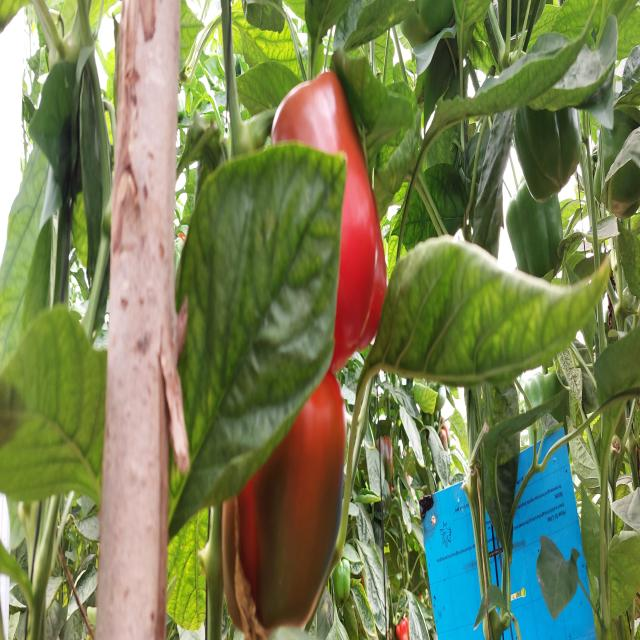Green--Not-ready-to-harvest: (511, 63, 593, 276)
Red-Ready-to-Harvest: (232, 77, 385, 341), (215, 310, 342, 620)
